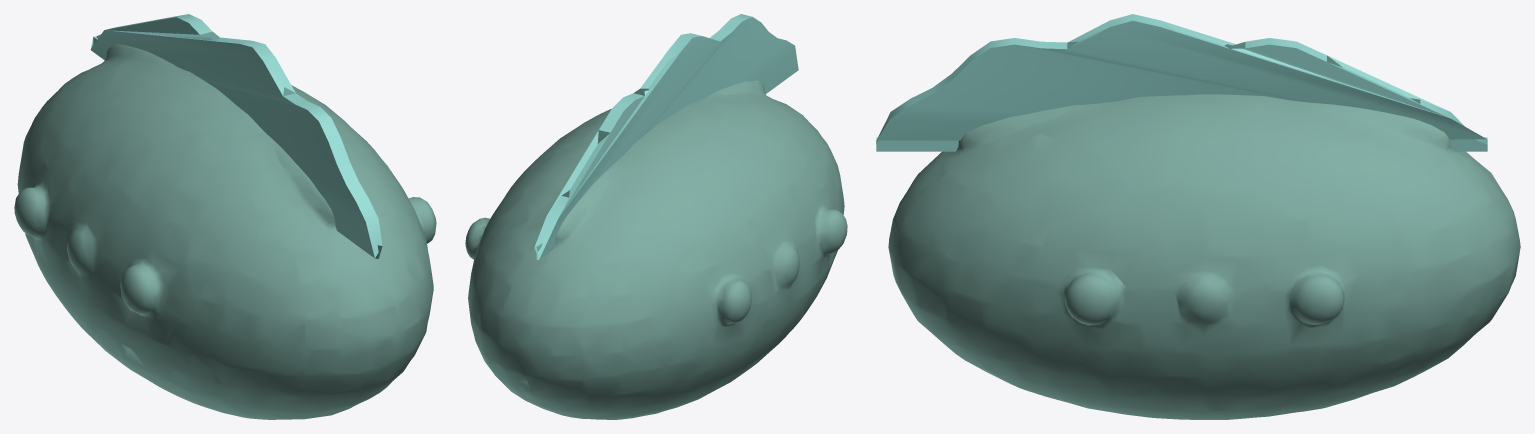
Rendered from serpent_segment0.glb.
The picture shows the model from 3 angles, left to right: view 1: azimuth 30°, elevation 25°; view 2: azimuth 150°, elevation 25°; view 3: azimuth 270°, elevation 25°; orthographic projection. The views are drawn at different scales.
Visible parts, largest first — view 1: Segment0, Dorsal; view 2: Segment0, Dorsal; view 3: Segment0, Dorsal.
Part boxes in pixels (<box>): Segment0: <box>14,44,436,419</box>; Dorsal: <box>90,14,382,258</box>; Segment0: <box>465,80,847,419</box>; Dorsal: <box>534,14,798,259</box>; Segment0: <box>888,94,1520,419</box>; Dorsal: <box>876,14,1487,151</box>.
Size of the model in its own units: 0.8407 by 0.9403 by 1.42.
